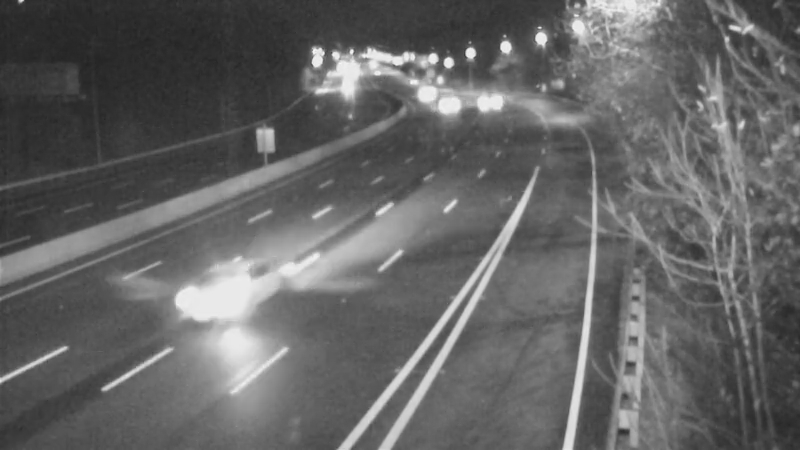vehicle: (193, 249, 273, 329), (398, 69, 448, 119), (461, 75, 511, 125), (417, 79, 467, 129)
